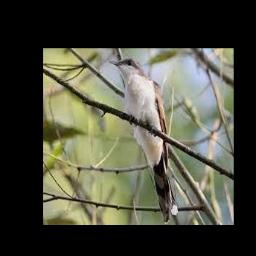Cuckoo: (109, 58, 179, 224)
